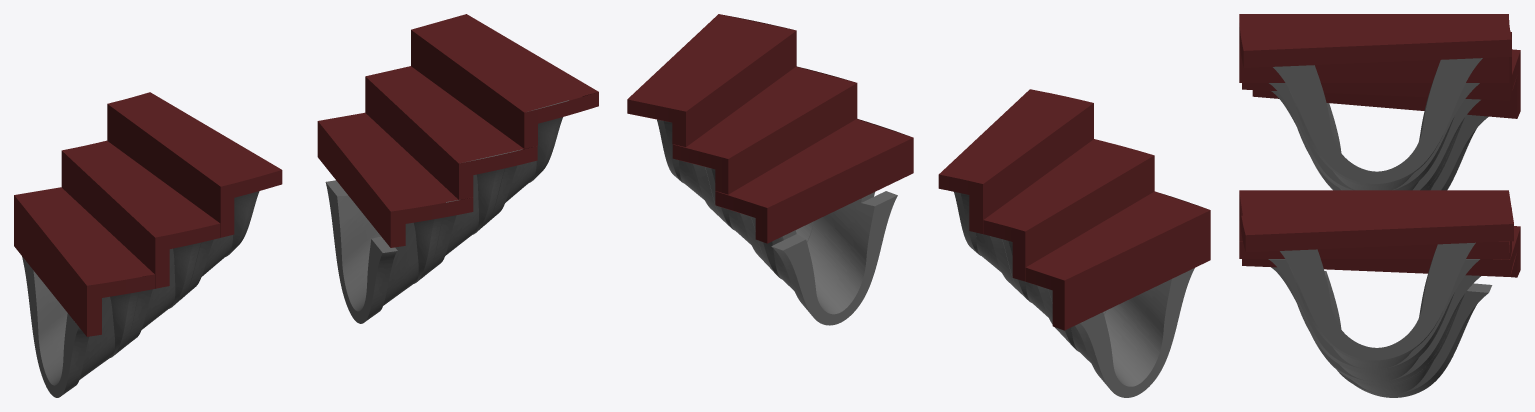
Rendered from modelo 1.glb.
The picture shows the model from 3 angles, left to right: view 1: azimuth 30°, elevation 25°; view 2: azimuth 150°, elevation 25°; view 3: azimuth 270°, elevation 25°; orthographic projection. The views are drawn at different scales.
Parts seen in each view (by area): view 1: modelo 1.011, modelo 1.005, modelo 1.002, modelo 1.009, modelo 1.001, modelo 1.010, modelo 1.007, modelo 1.003, modelo 1.006, modelo 1, modelo 1.008, modelo 1.004; view 2: modelo 1.002, modelo 1.011, modelo 1.010, modelo 1.009, modelo 1.001, modelo 1.005, modelo 1.007, modelo 1.003, modelo 1.004, modelo 1.008, modelo 1.006, modelo 1; view 3: modelo 1.005, modelo 1.011, modelo 1.004, modelo 1.008, modelo 1.007, modelo 1.010, modelo 1.002, modelo 1.006, modelo 1.009, modelo 1.001, modelo 1.003, modelo 1.
Part boxes in pixels (x1,y1,x2,y2): modelo 1.011: (411, 14, 598, 148); modelo 1.005: (107, 92, 282, 237); modelo 1.002: (14, 187, 154, 336); modelo 1.009: (365, 66, 537, 199); modelo 1.001: (61, 140, 220, 288); modelo 1.010: (317, 112, 473, 247); modelo 1.007: (325, 180, 442, 323); modelo 1.003: (22, 256, 139, 397); modelo 1.006: (426, 152, 508, 274); modelo 1: (123, 242, 200, 347); modelo 1.008: (484, 100, 568, 225); modelo 1.004: (182, 191, 259, 298); modelo 1.002: (1025, 191, 1210, 330); modelo 1.011: (627, 14, 796, 146); modelo 1.010: (715, 118, 913, 243); modelo 1.009: (672, 66, 857, 194); modelo 1.001: (983, 139, 1154, 281); modelo 1.005: (938, 89, 1093, 233); modelo 1.007: (751, 191, 897, 325); modelo 1.003: (1048, 268, 1194, 397); modelo 1.004: (954, 192, 1020, 293); modelo 1.008: (657, 119, 723, 220); modelo 1.006: (705, 167, 813, 266); modelo 1: (1002, 239, 1105, 339); modelo 1.005: (1239, 14, 1511, 82); modelo 1.011: (1239, 190, 1513, 252); modelo 1.004: (1269, 58, 1482, 190); modelo 1.008: (1268, 242, 1479, 372); modelo 1.007: (1311, 271, 1492, 397); modelo 1.010: (1242, 226, 1520, 277); modelo 1.002: (1252, 49, 1520, 118); modelo 1.006: (1271, 267, 1480, 384); modelo 1.009: (1239, 208, 1511, 259); modelo 1.001: (1242, 31, 1511, 100); modelo 1.003: (1311, 103, 1488, 190); modelo 1: (1271, 91, 1480, 190).
Bounding box in the file's own units: 4.25 × 1.81 × 1.71.
